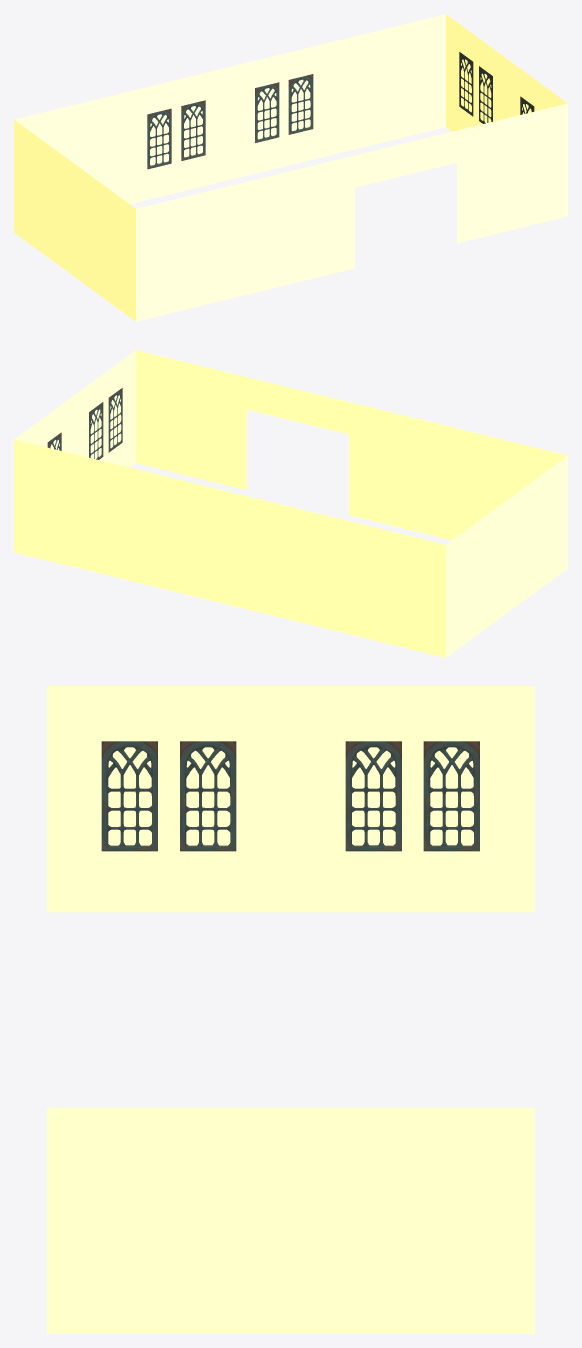
The model's file is Homeworld_Interior_Md_Room_M_Filling_01_Vo.fbx.
3 renders of one model, top to bottom at view 1: azimuth 30°, elevation 25°; view 2: azimuth 150°, elevation 25°; view 3: azimuth 270°, elevation 25°, orthographic. The views are drawn at different scales.
Parts seen in each view (by area): view 1: Homeworld_Interior_Md_Room_M_Filling_01_Vo; view 2: Homeworld_Interior_Md_Room_M_Filling_01_Vo; view 3: Homeworld_Interior_Md_Room_M_Filling_01_Vo.
Part boxes in pixels (x1,y1,x2,y2): Homeworld_Interior_Md_Room_M_Filling_01_Vo: (14,14,567,321); Homeworld_Interior_Md_Room_M_Filling_01_Vo: (14,350,567,657); Homeworld_Interior_Md_Room_M_Filling_01_Vo: (47,686,534,1333).
Size of the model in its own units: 19.96 by 4.99 by 9.77.
